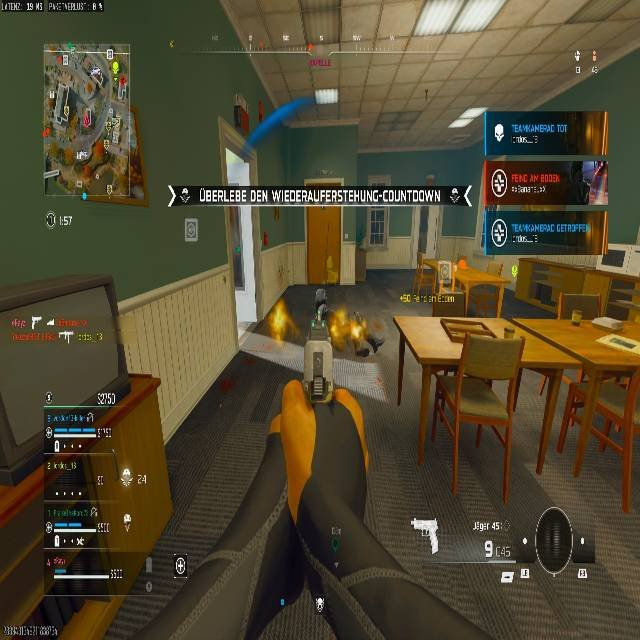player: (312, 287, 329, 325)
